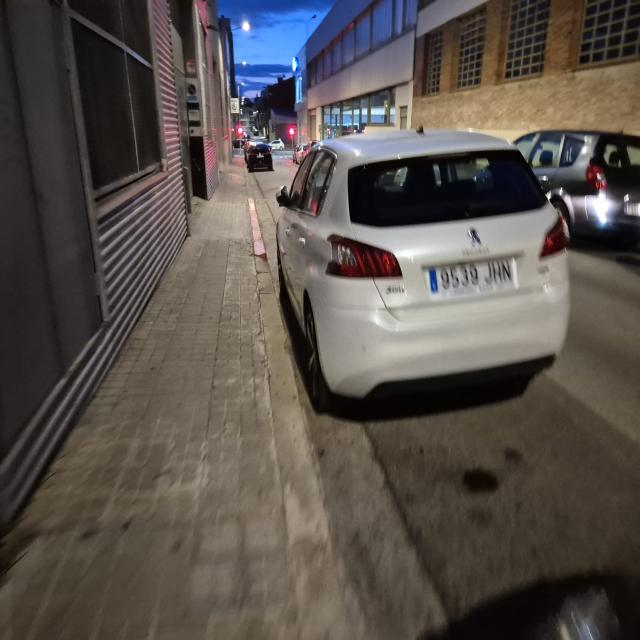license_plate-34Td: (428, 259, 515, 294)
